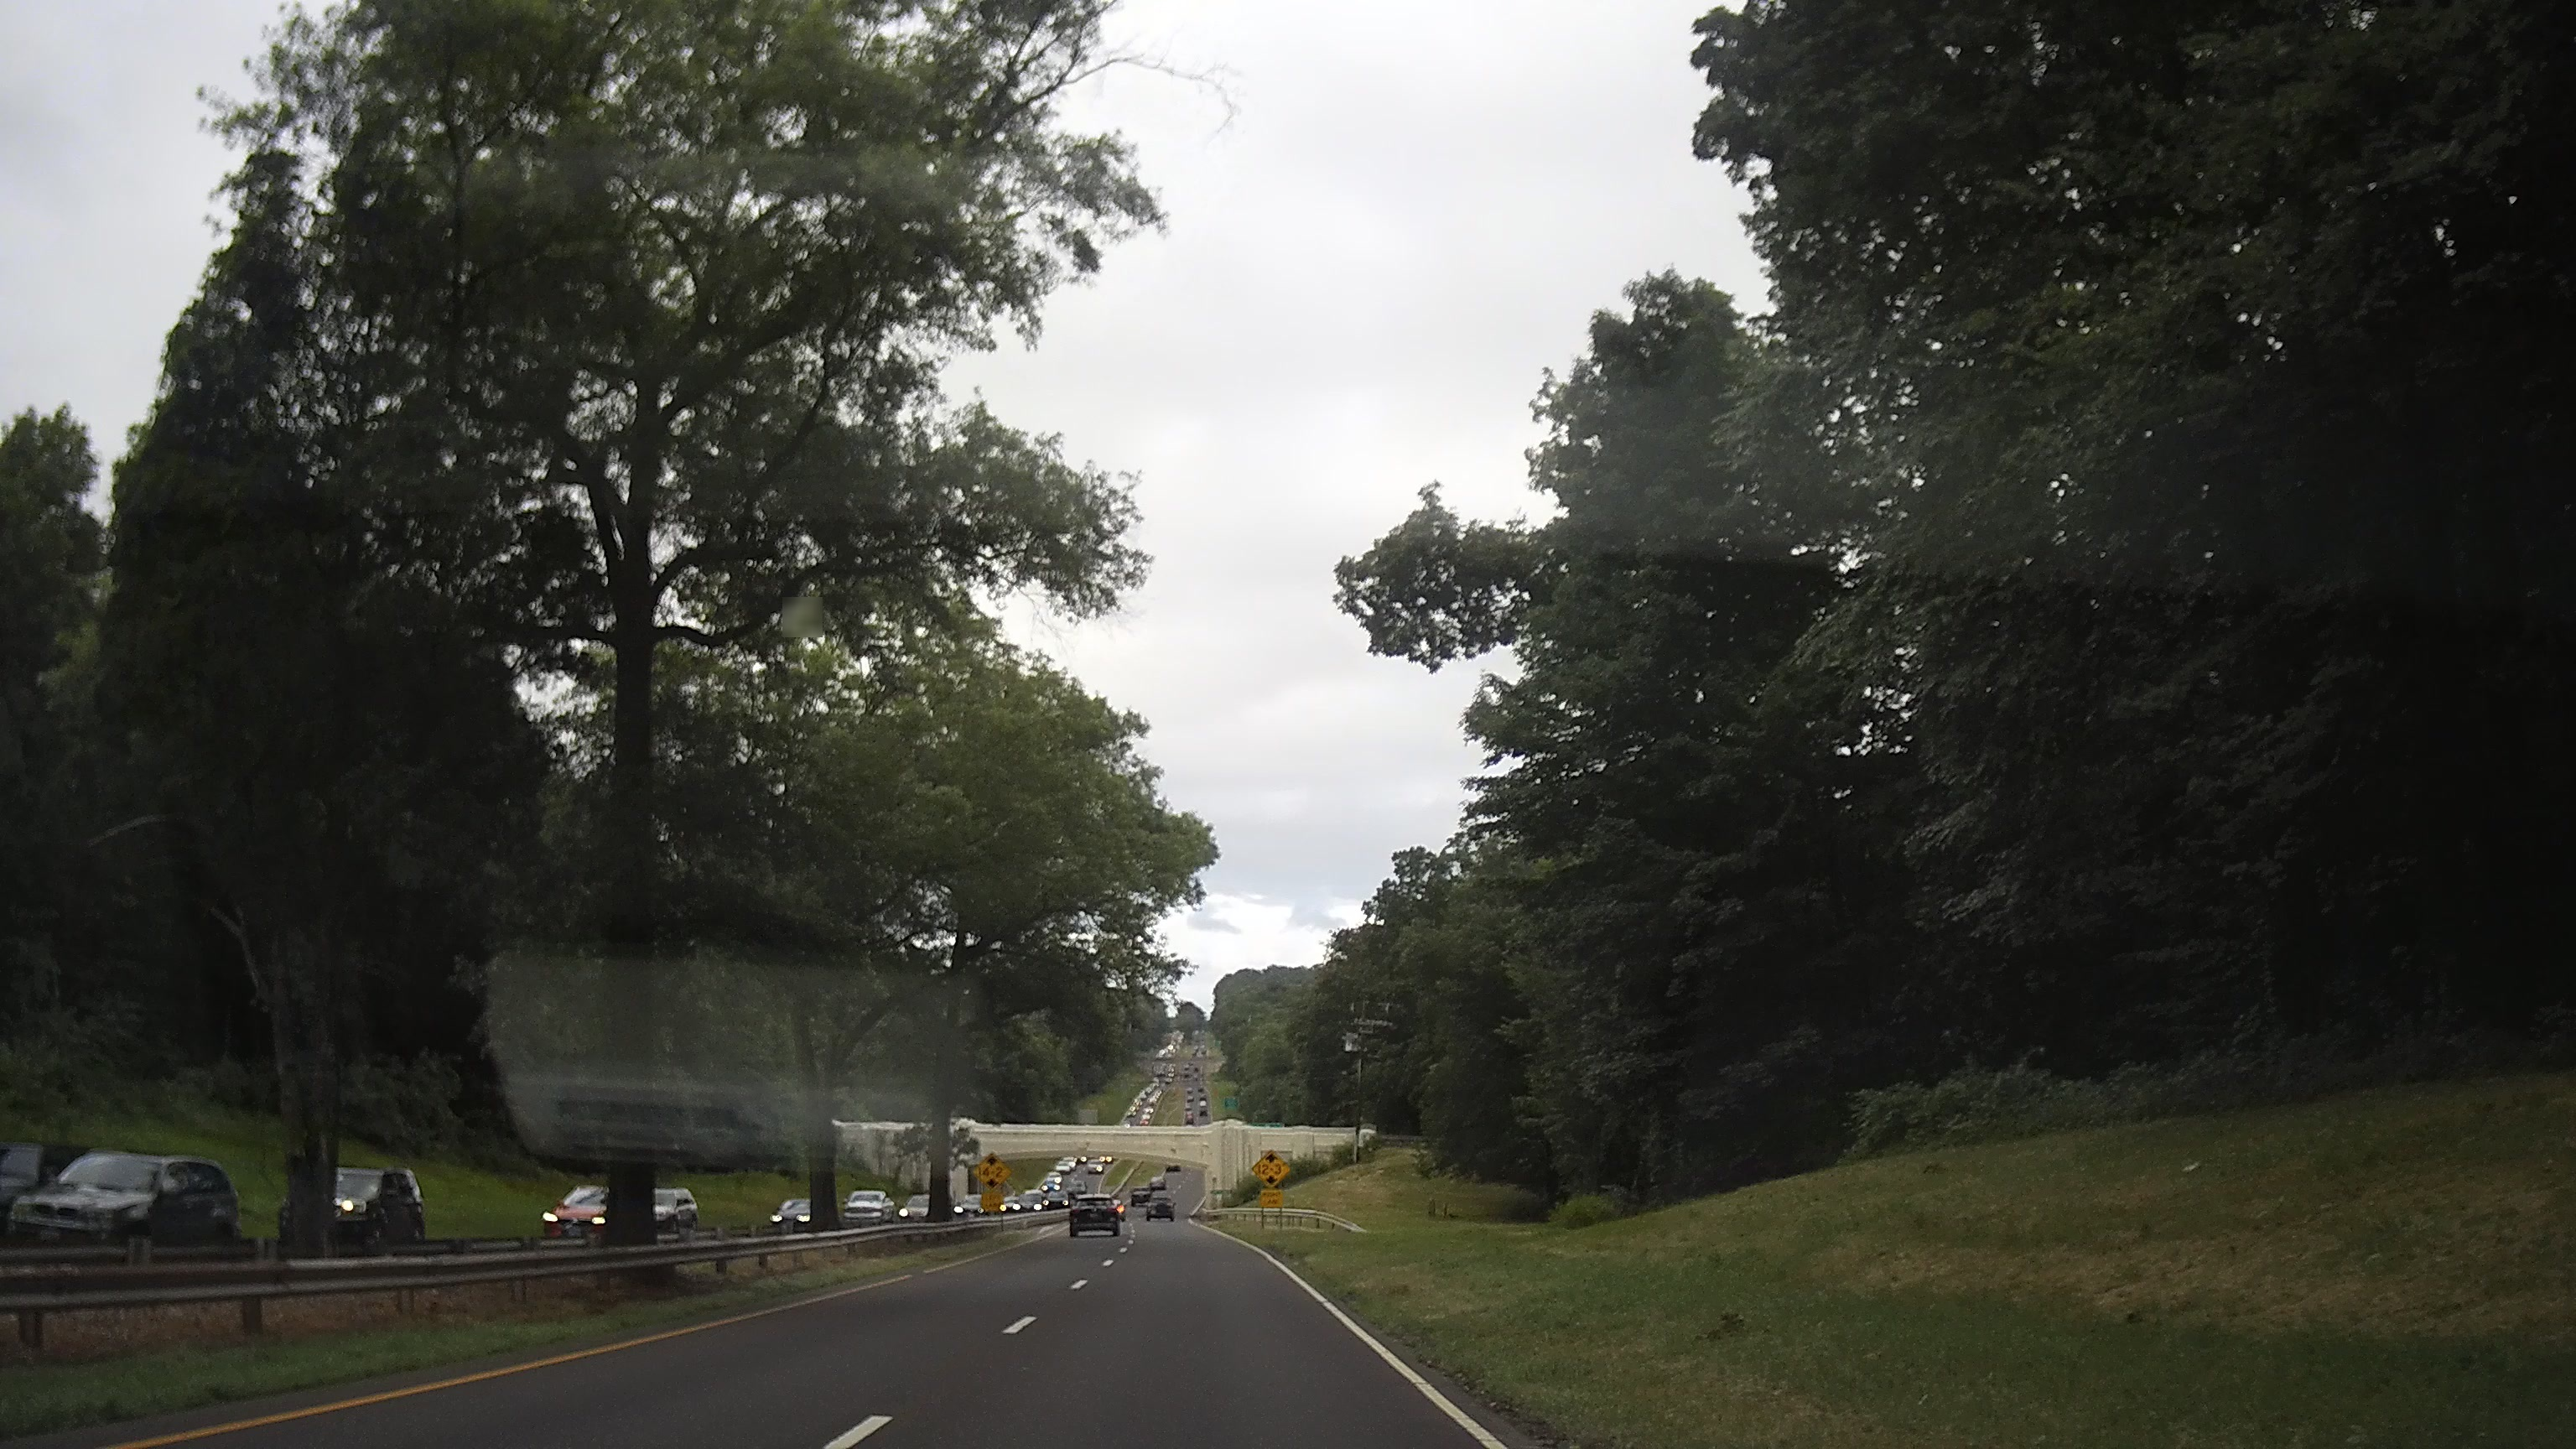low-clearance-sign: (971, 1154, 1012, 1192), (1253, 1150, 1290, 1189)
